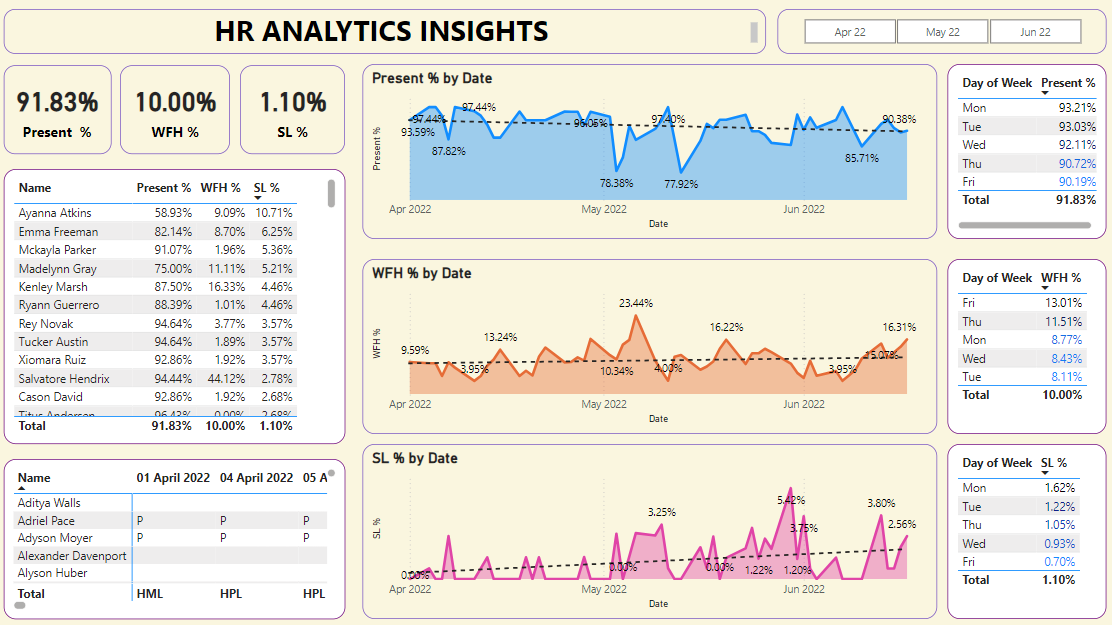

This screenshot's page, from the dashboard's own definition file:
{"tool":"powerbi","page":{"name":"HR Analytics Insights","canvas":[1280,720],"ordinal":0},"visuals":[{"type":"card","fields":{"Values":["Measure Table.Present  %"]},"box":[10,75.7,122.9,101.4],"z":0},{"type":"slicer","fields":{"Values":["Final Data.Month"]},"box":[894.3,11.4,375.7,51.4],"z":1000},{"type":"card","fields":{"Values":["Measure Table.WFH %"]},"box":[142.9,75.7,125.7,101.4],"z":2000},{"type":"card","fields":{"Values":["Measure Table.SL %"]},"box":[280,75.7,120,101.4],"z":3000},{"type":"tableEx","fields":{"Values":["Final Data.Name","Measure Table.Present  %","Measure Table.WFH %","Measure Table.SL %"]},"box":[10,194.3,390,314.3],"z":4000},{"type":"textbox","box":[10,11.4,871.4,51.4],"z":5000},{"type":"pivotTable","fields":{"Rows":["Final Data.Name"],"Values":["Final Data.Value"],"Columns":["Final Data.Date"]},"box":[10,525.7,390,182.9],"z":6000},{"type":"areaChart","title":"Present  % by Date","fields":{"Y":["Measure Table.Present  %"],"Category":["Final Data.Date"]},"box":[420,74.3,657.1,200],"z":7000},{"type":"areaChart","fields":{"Category":["Final Data.Date"],"Y":["Measure Table.WFH %"]},"box":[420,297.1,657.1,200],"z":8000},{"type":"areaChart","fields":{"Category":["Final Data.Date"],"Y":["Measure Table.SL %"]},"box":[420,508.6,657.1,200],"z":9000},{"type":"tableEx","fields":{"Values":["Final Data.Day of Week","Measure Table.Present  %"]},"box":[1088.6,74.3,181.4,200],"z":10000},{"type":"tableEx","fields":{"Values":["Final Data.Day of Week","Measure Table.WFH %"]},"box":[1088.6,297.1,181.4,200],"z":11000},{"type":"tableEx","fields":{"Values":["Final Data.Day of Week","Measure Table.SL %"]},"box":[1088.6,508.6,181.4,200],"z":12000}]}

Visuals, with their boxes in screenshot pixels (x1, y1, x2, y2), scaled from the page's 1280x720 canvas onto the 1112x625 screenshot:
card - Measure Table.Present  %: Rect(9, 66, 115, 154)
slicer - Final Data.Month: Rect(777, 10, 1103, 55)
card - Measure Table.WFH %: Rect(124, 66, 233, 154)
card - Measure Table.SL %: Rect(243, 66, 348, 154)
tableEx - Final Data.Name x Measure Table.Present  %: Rect(9, 169, 348, 441)
textbox: Rect(9, 10, 766, 55)
pivotTable - Final Data.Name x Final Data.Value: Rect(9, 456, 348, 615)
"Present  % by Date" areaChart: Rect(365, 64, 936, 238)
areaChart - Final Data.Date x Measure Table.WFH %: Rect(365, 258, 936, 432)
areaChart - Final Data.Date x Measure Table.SL %: Rect(365, 441, 936, 615)
tableEx - Final Data.Day of Week x Measure Table.Present  %: Rect(946, 64, 1103, 238)
tableEx - Final Data.Day of Week x Measure Table.WFH %: Rect(946, 258, 1103, 432)
tableEx - Final Data.Day of Week x Measure Table.SL %: Rect(946, 441, 1103, 615)
